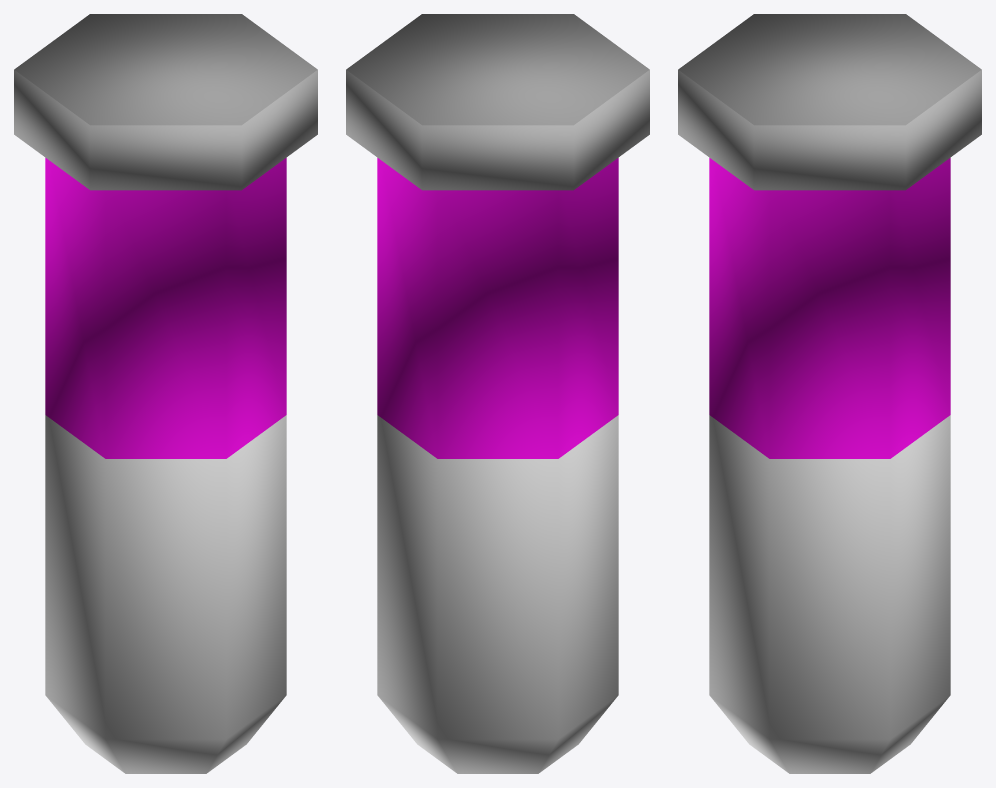
Rendered from Coin Extract Vial Magenta.fbx.
3 views of the same model, side by side, from view 1: azimuth 30°, elevation 25°; view 2: azimuth 150°, elevation 25°; view 3: azimuth 270°, elevation 25° (orthographic).
Visible parts, largest first — view 1: Cylinder; view 2: Cylinder; view 3: Cylinder.
Part boxes in pixels (bbox=[...]): Cylinder: bbox=[14, 14, 317, 773]; Cylinder: bbox=[346, 14, 649, 773]; Cylinder: bbox=[678, 14, 981, 773].
Size of the model in its own units: 218 by 617 by 252.
